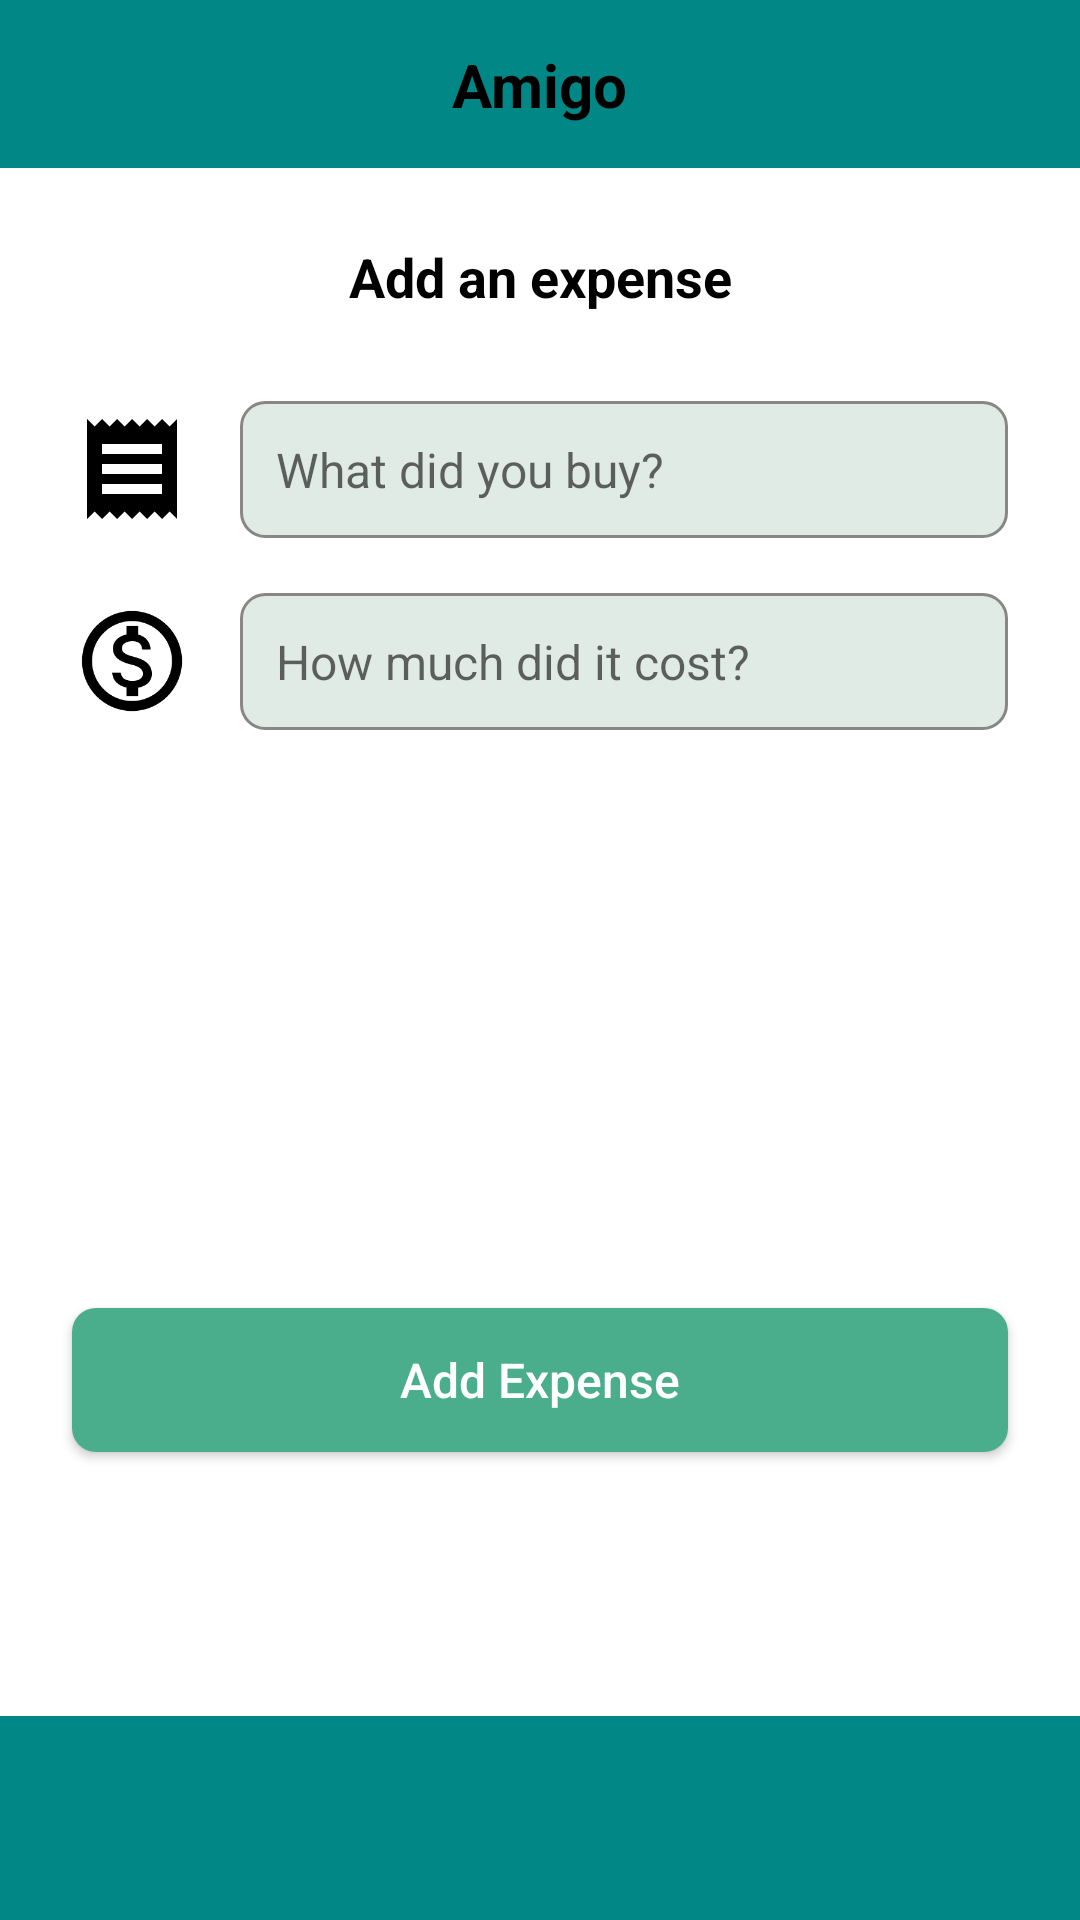

Icon click points for this 1080x1920 phone screenshot, format point (x, y):
amount: point (132, 661)
recipt: point (132, 469)
